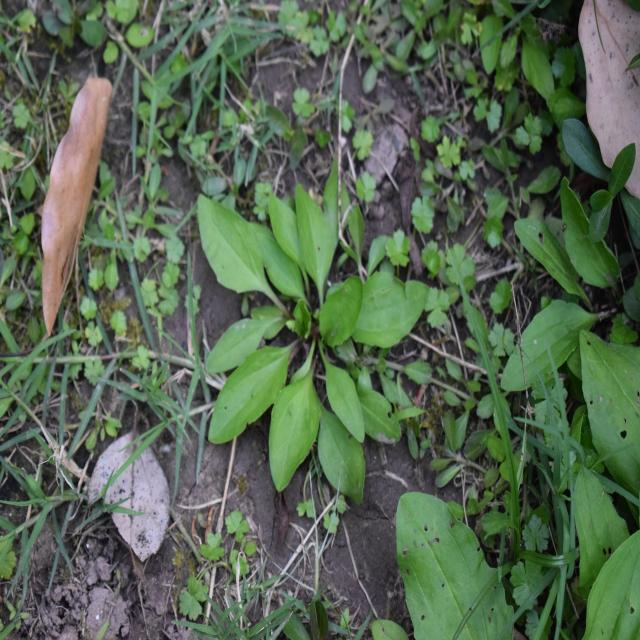plantain: (204, 187, 419, 469)
